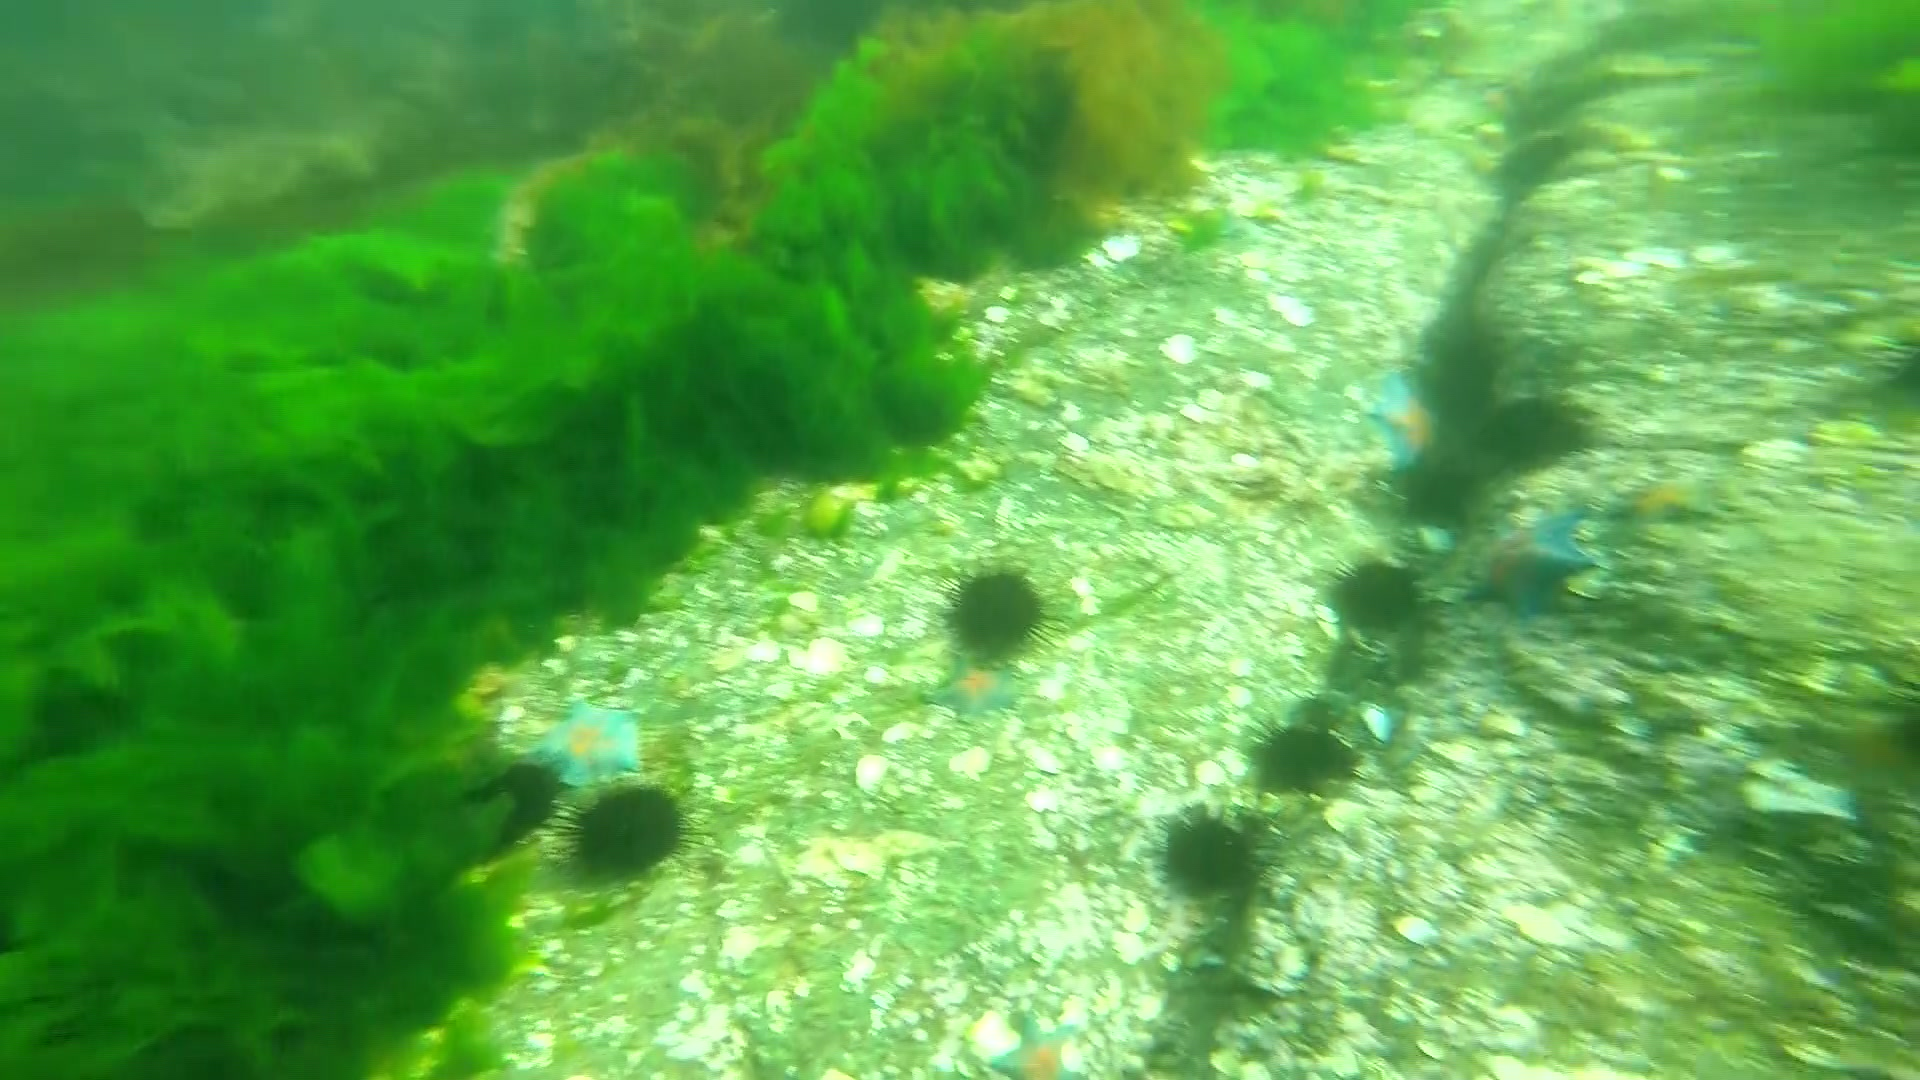echinus: (555, 767, 704, 891), (932, 550, 1058, 676), (1145, 796, 1258, 894), (1323, 547, 1435, 644), (1480, 389, 1600, 479), (1241, 704, 1357, 790), (469, 757, 574, 847), (1876, 320, 1920, 415)
starfish: (1462, 510, 1596, 620), (513, 688, 647, 786), (978, 1001, 1087, 1080), (918, 647, 1026, 727), (1364, 373, 1440, 473), (1629, 465, 1712, 529)
